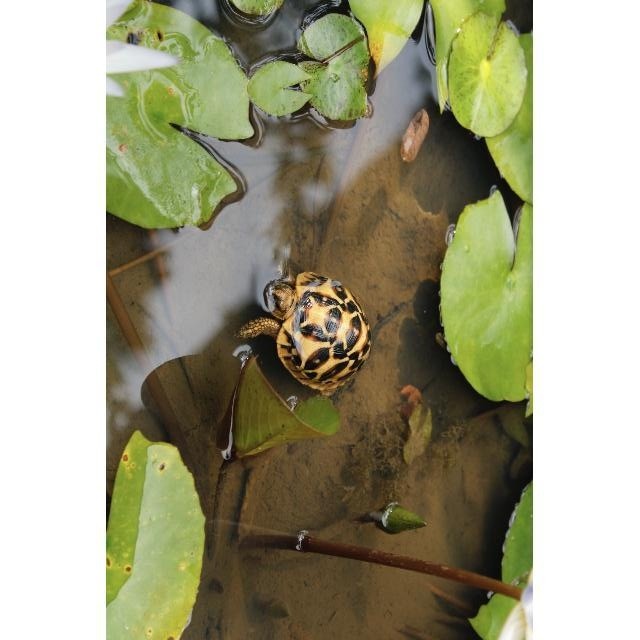turtle: (235, 252, 373, 397)
